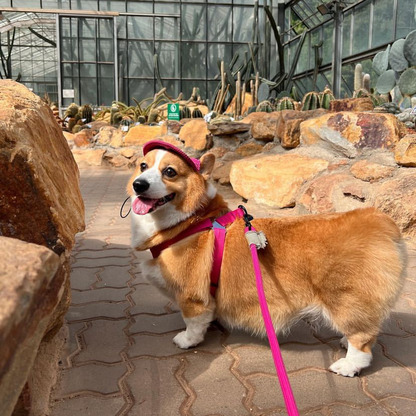Corgi: (114, 131, 412, 390)
